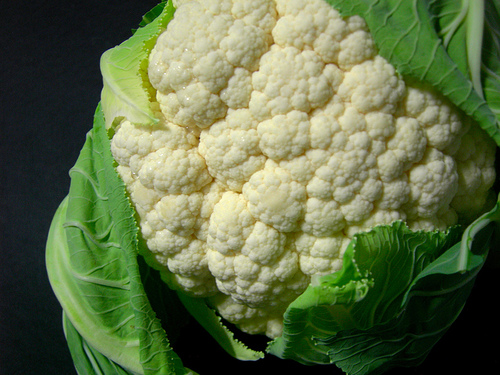cauliflower: (110, 4, 491, 340)
